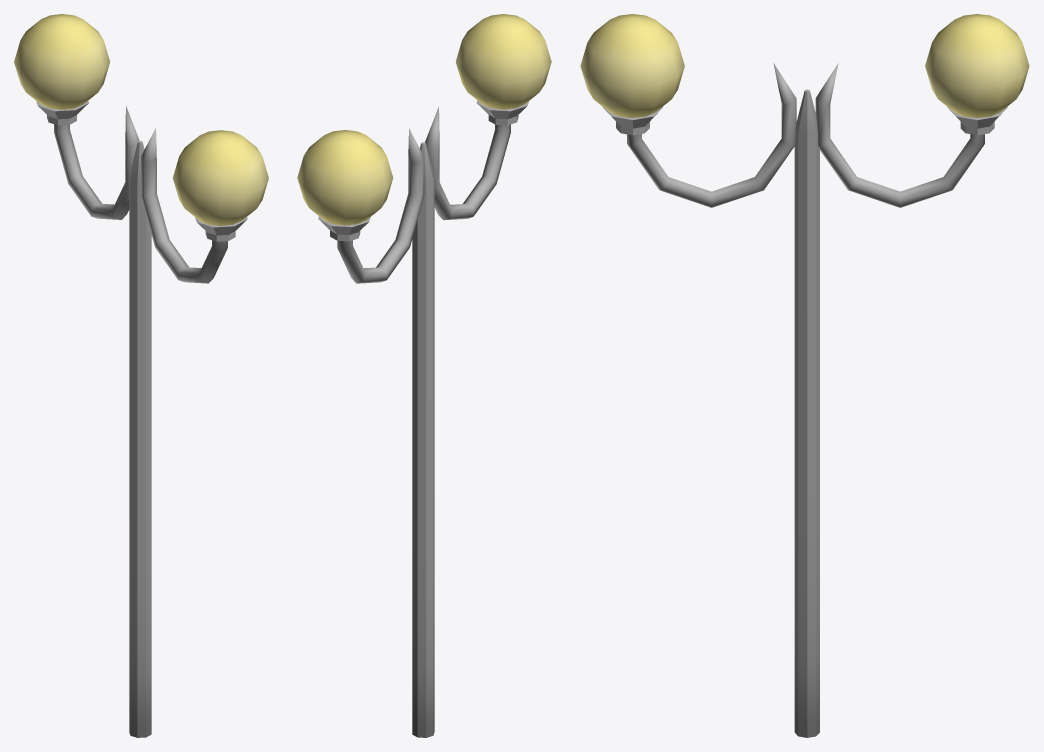
Rendered from streetlight02_double.fbx.
3 views of the same model, side by side, from view 1: azimuth 30°, elevation 25°; view 2: azimuth 150°, elevation 25°; view 3: azimuth 270°, elevation 25° (orthographic). The views are drawn at different scales.
Visible parts, largest first — view 1: lamp02_double1; view 2: lamp02_double1; view 3: lamp02_double1.
Part boxes in pixels (x1,y1,x2,y2): lamp02_double1: [14, 14, 268, 737]; lamp02_double1: [297, 14, 551, 737]; lamp02_double1: [580, 14, 1029, 737].
Size of the model in its own units: 0.7811 by 5.89 by 3.36.
Materials: 1 (1 with a texture image).
